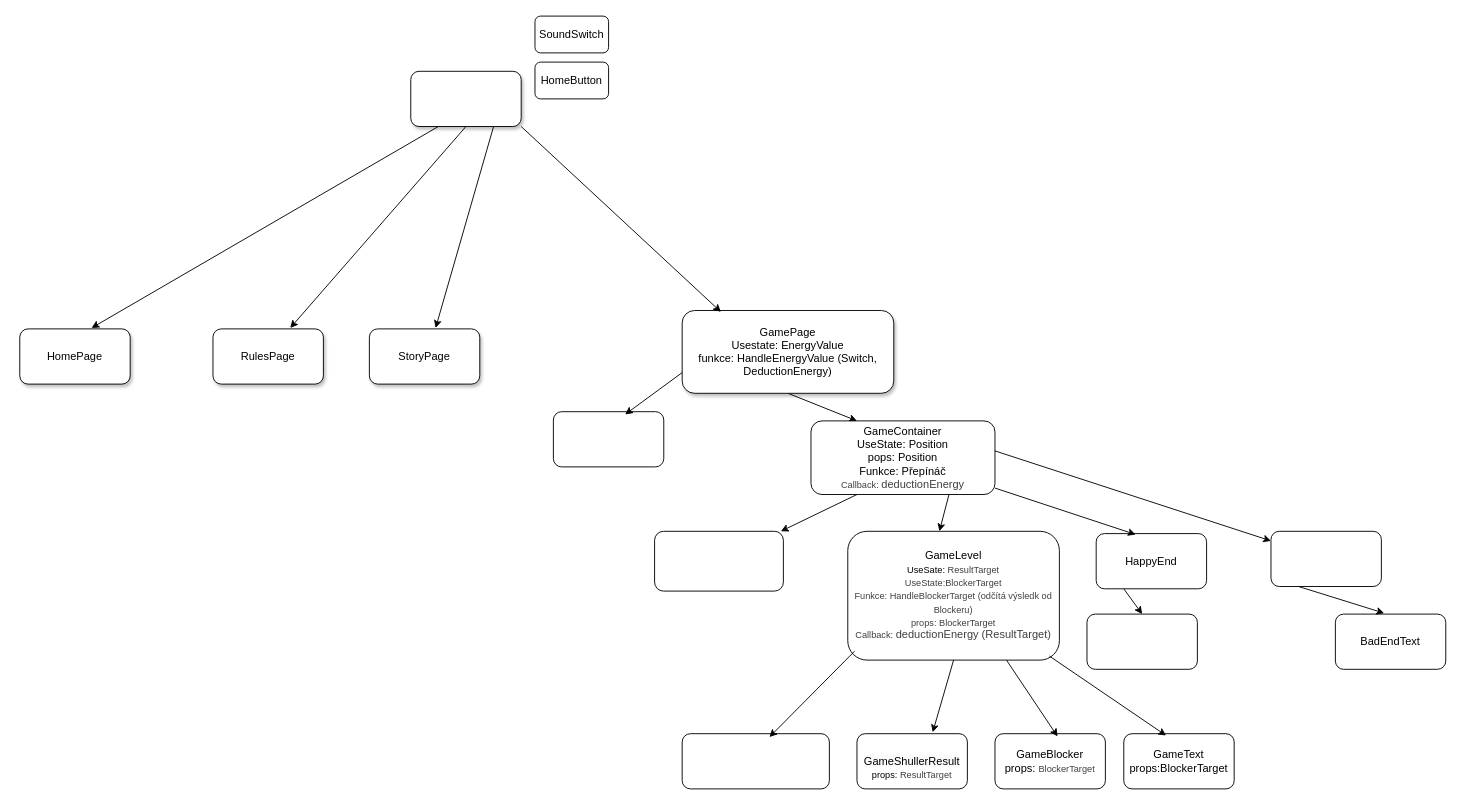
Some shapes in this 1462 by 805 pixel diagram are drawn without their labels. The shapes that lost their labels are listed below. From the top down, each one's centre as x and y in pixels, then its label:
At pixel 466 100: "APP".
At pixel 608 439: "EnergyBar props: EnergyValue".
At pixel 718 560: "GameMap pros: Position callback onClick:".
At pixel 1325 558: "BadEnd".
At pixel 1141 641: "HappyEndText".
At pixel 755 761: "GameShuffler callback: ResultTarget (fukce : zneaktivnění tlačítka)".
